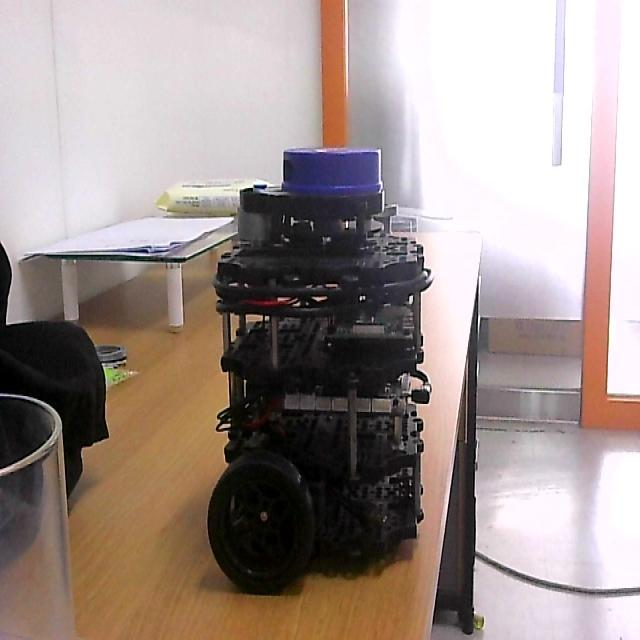turtle: (205, 143, 436, 595)
